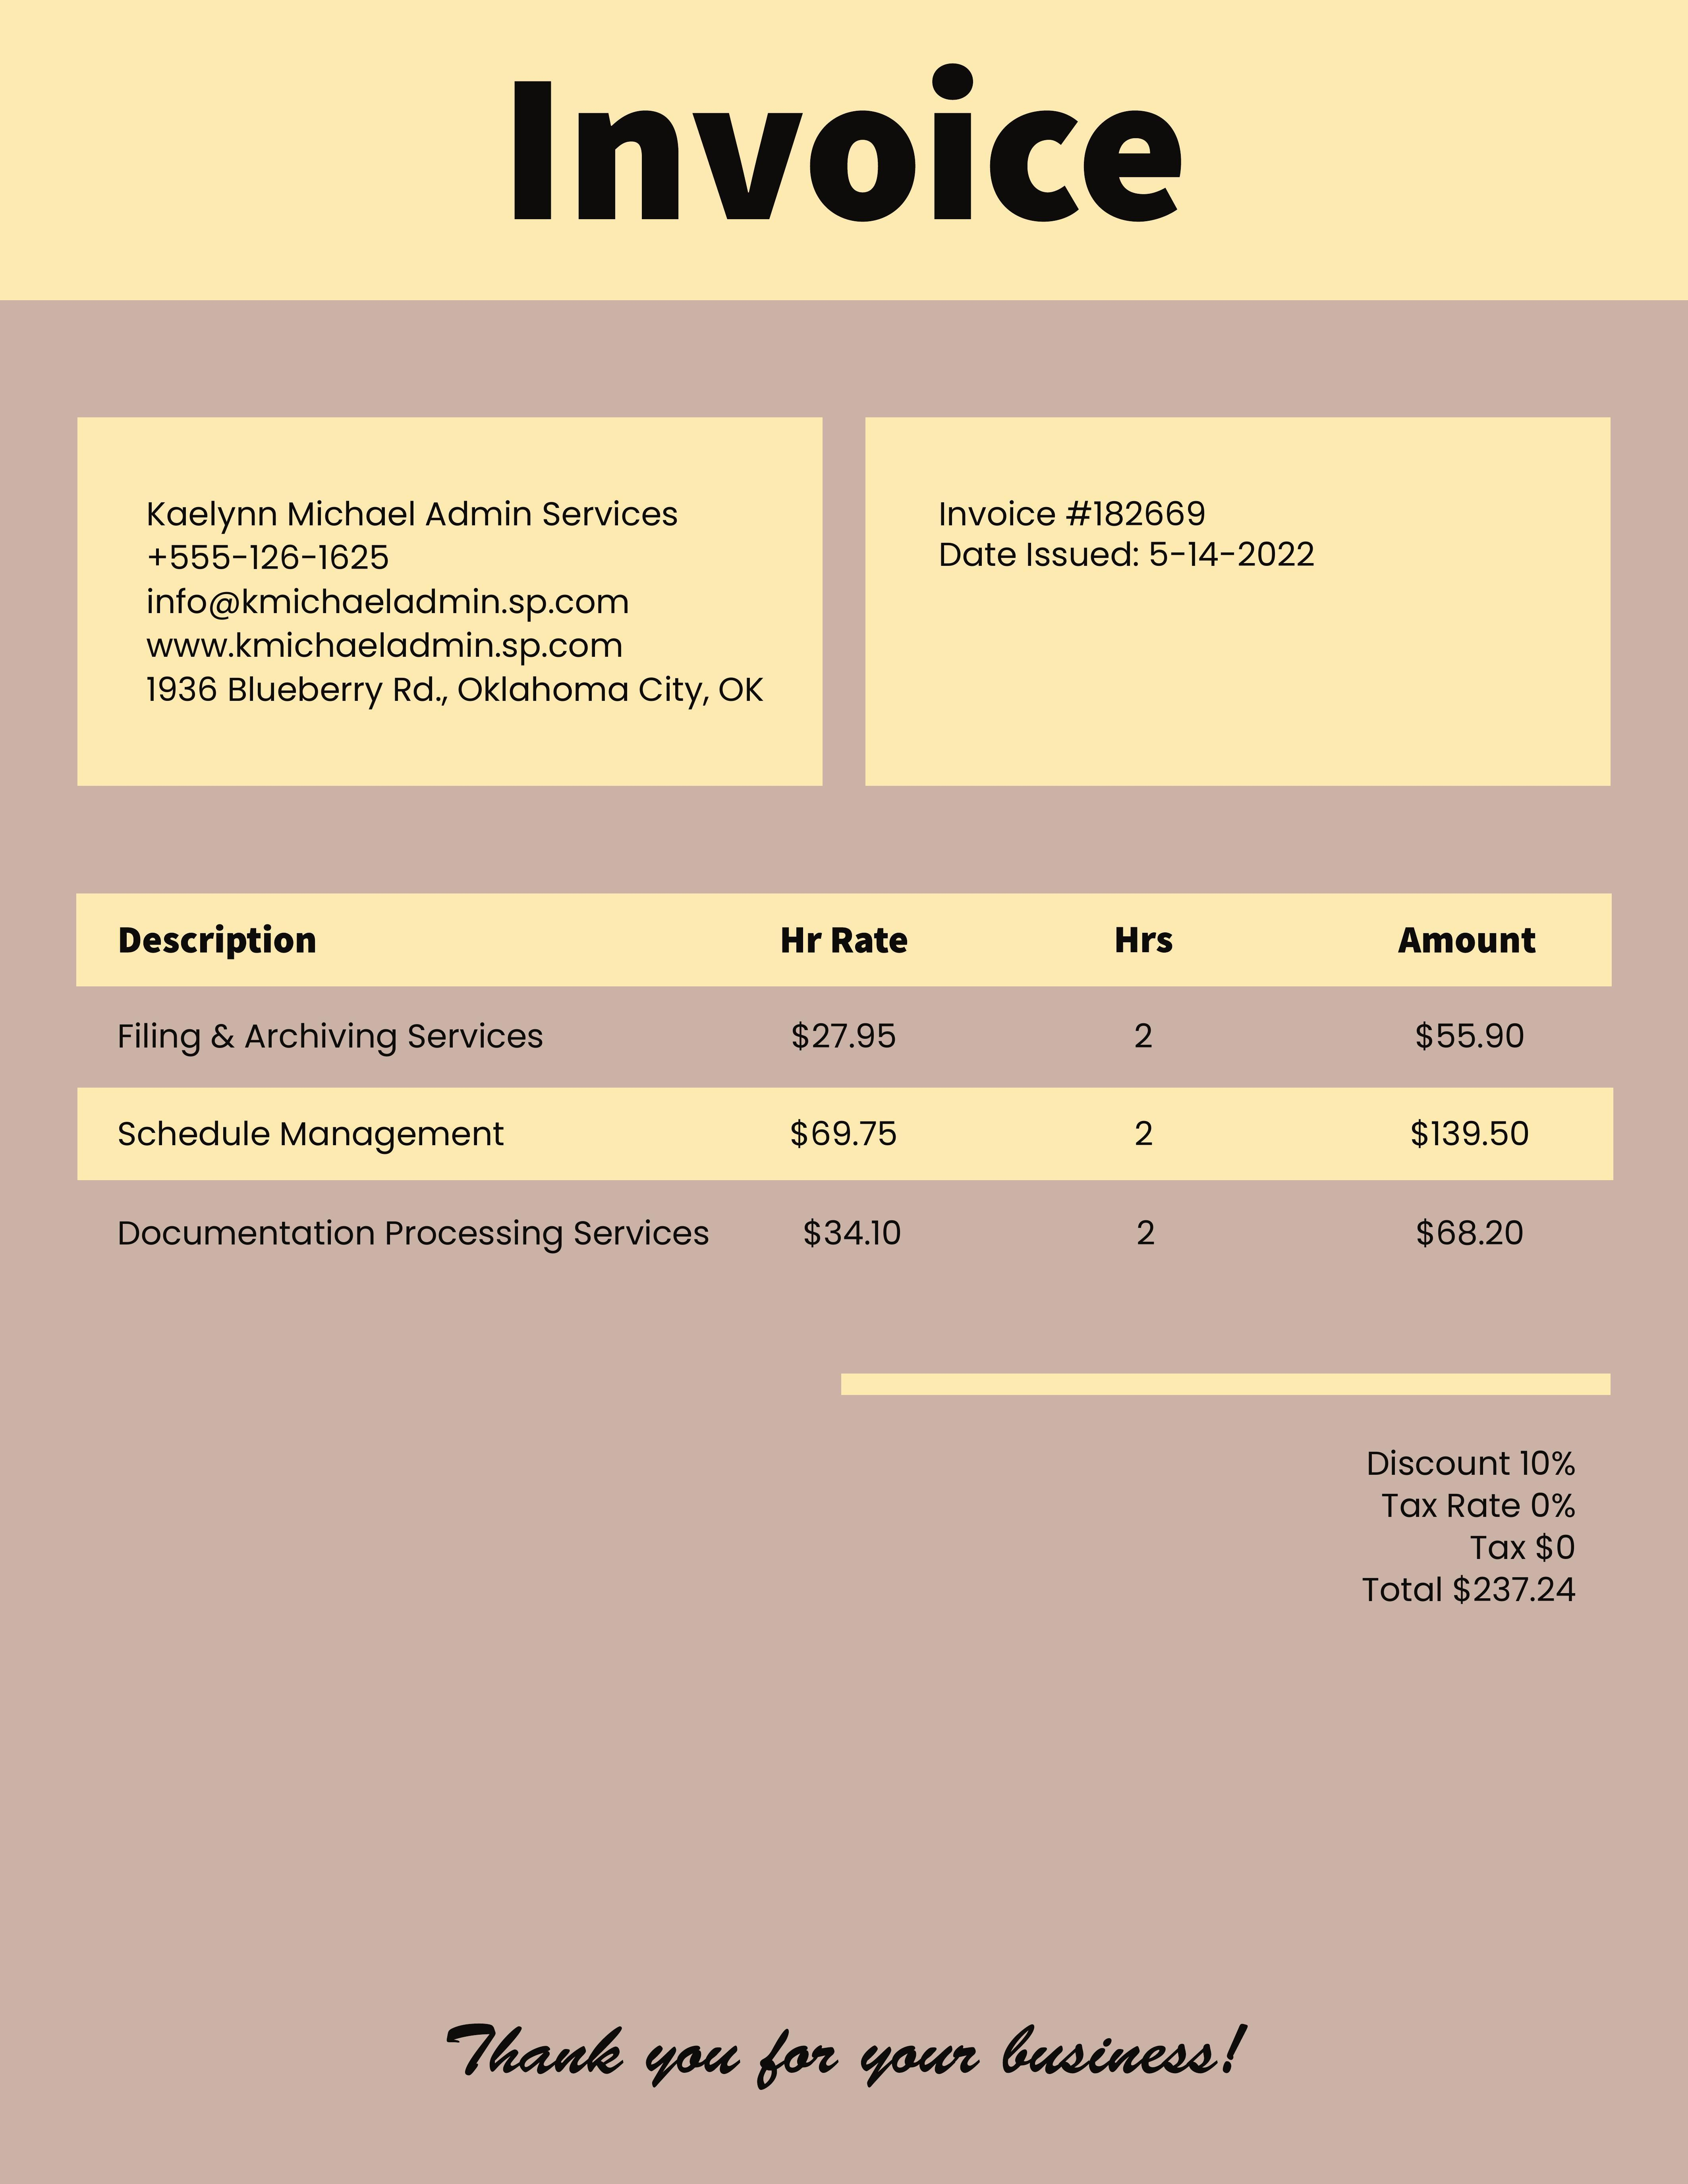ROI: (112, 922, 1549, 1258), (140, 492, 767, 715), (1362, 1447, 1586, 1607), (932, 496, 1332, 580)
